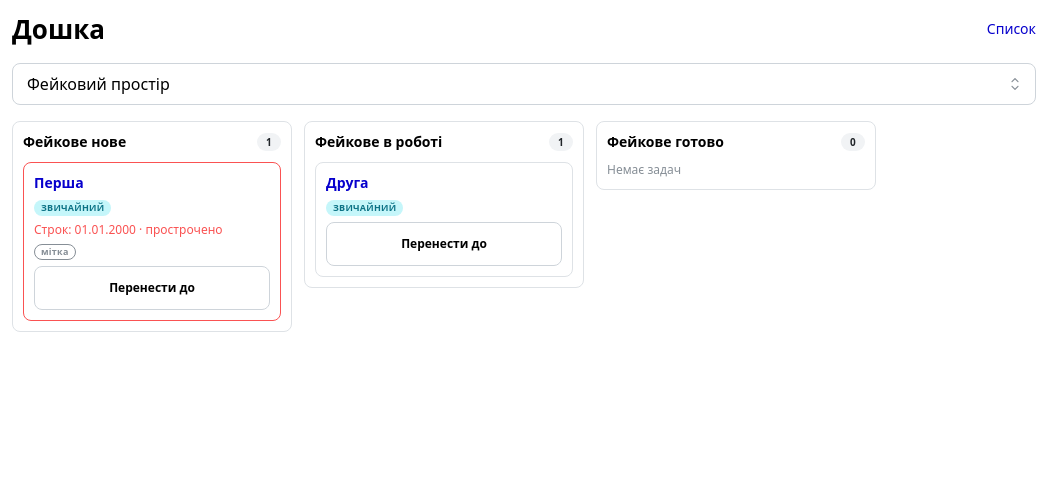
BoardPage › rolls back and shows a message when the move fails
Click the button with aria-label "Перша". click: (152, 288)
box: 34,266 -> 270,310
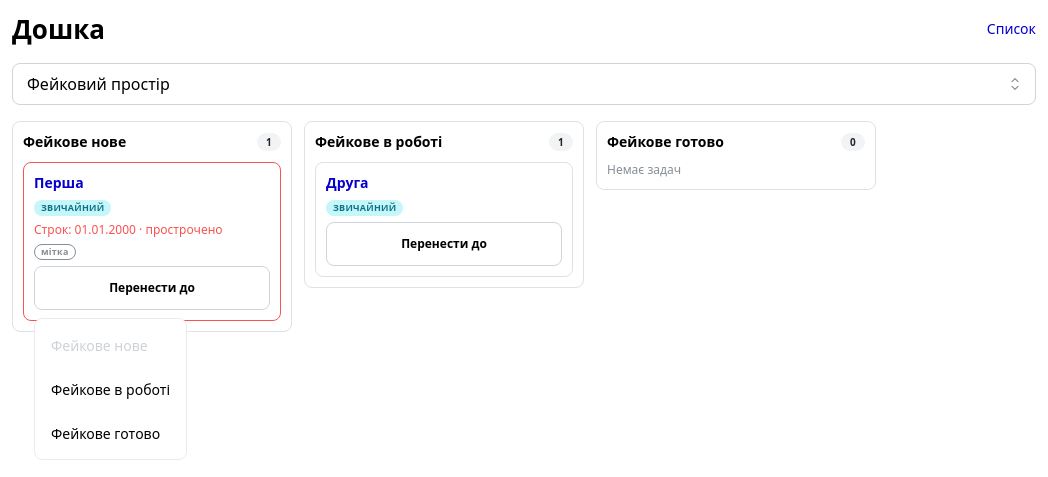
Click the menu item "Фейкове готово". click: (111, 434)
box: 39,412 -> 182,456
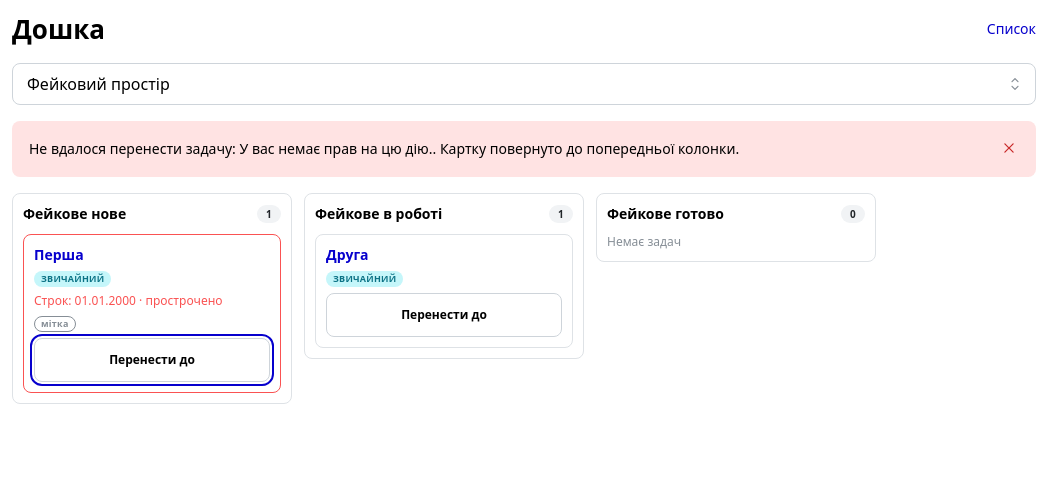
Check: the link "Перша" is shown, box 34,245 -> 84,264
Check: the message shows "Не вдалося перенести задачу", box 29,139 -> 739,158
